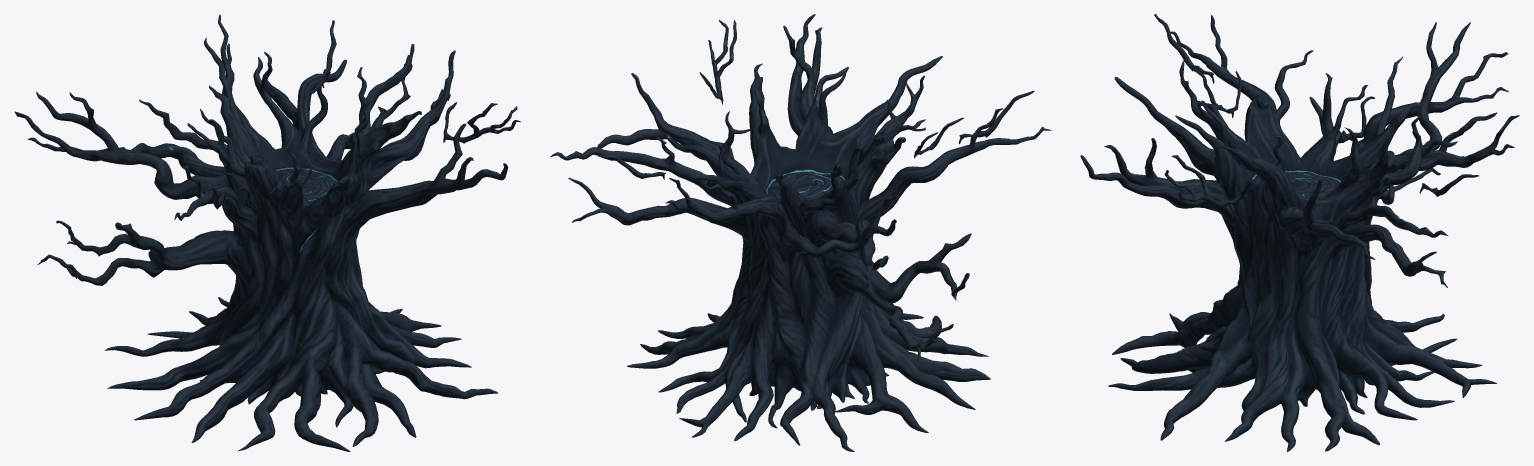
Rendered from world-tree.glb.
3 renders of one model, left to right at view 1: azimuth 30°, elevation 25°; view 2: azimuth 150°, elevation 25°; view 3: azimuth 270°, elevation 25°, orthographic. The views are drawn at different scales.
Size of the model in its own units: 1.9 by 1.33 by 1.82.
1 material, 1 textured.
